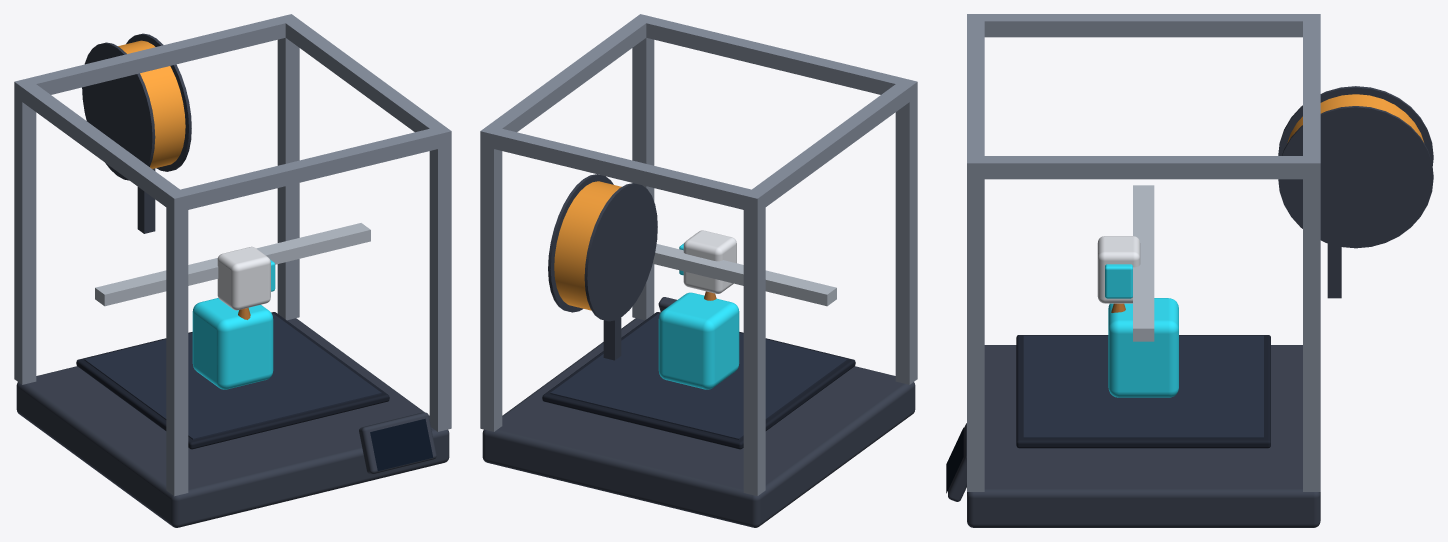
Rendered from printer3d.glb.
3 views of the same model, side by side, from view 1: azimuth 30°, elevation 25°; view 2: azimuth 150°, elevation 25°; view 3: azimuth 270°, elevation 25° (orthographic). The views are drawn at different scales.
Parts seen in each view (by area): view 1: printer3d, base, bedSheet, printPart, spool, rail, bedPlate, filament, carriage, screen, panel; view 2: printer3d, base, bedSheet, spool, printPart, filament, bedPlate, rail, carriage; view 3: base, printer3d, bedSheet, spool, printPart, bedPlate, rail, carriage, filament, fanStripe, panel, screen.
Part boxes in pixels (<box>): printer3d: <box>14,14,451,496</box>; base: <box>16,318,449,527</box>; bedSheet: <box>84,313,381,439</box>; printPart: <box>192,298,273,389</box>; spool: <box>82,33,191,180</box>; rail: <box>95,223,370,306</box>; bedPlate: <box>76,312,389,449</box>; filament: <box>118,40,185,168</box>; carriage: <box>217,246,270,310</box>; screen: <box>370,418,433,471</box>; panel: <box>359,412,436,474</box>; printer3d: <box>480,14,917,496</box>; base: <box>482,318,915,527</box>; bedSheet: <box>550,313,847,439</box>; spool: <box>548,174,657,321</box>; printPart: <box>658,292,739,389</box>; filament: <box>554,181,621,310</box>; bedPlate: <box>542,312,855,449</box>; rail: <box>652,244,836,306</box>; carriage: <box>683,230,736,293</box>; base: <box>967,345,1320,527</box>; printer3d: <box>967,14,1341,491</box>; bedSheet: <box>1023,335,1263,438</box>; spool: <box>1278,86,1433,248</box>; printPart: <box>1108,298,1178,397</box>; bedPlate: <box>1016,335,1270,448</box>; rail: <box>1133,185,1154,341</box>; carriage: <box>1097,236,1140,303</box>; filament: <box>1287,94,1423,142</box>; fanStripe: <box>1105,264,1132,298</box>; panel: <box>948,423,966,501</box>; screen: <box>946,427,963,493</box>.
Size of the model in its own units: 0.5 by 0.5725 by 0.6892.
